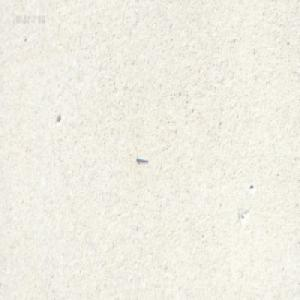Nail: (135, 155, 147, 162)
